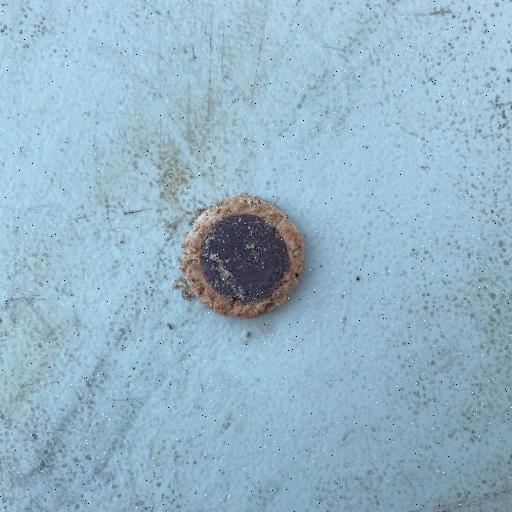Waste: (177, 192, 305, 320)
